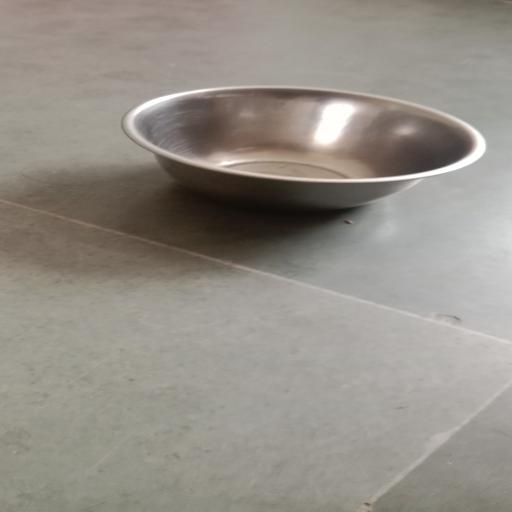Bowl: (122, 86, 486, 211)
